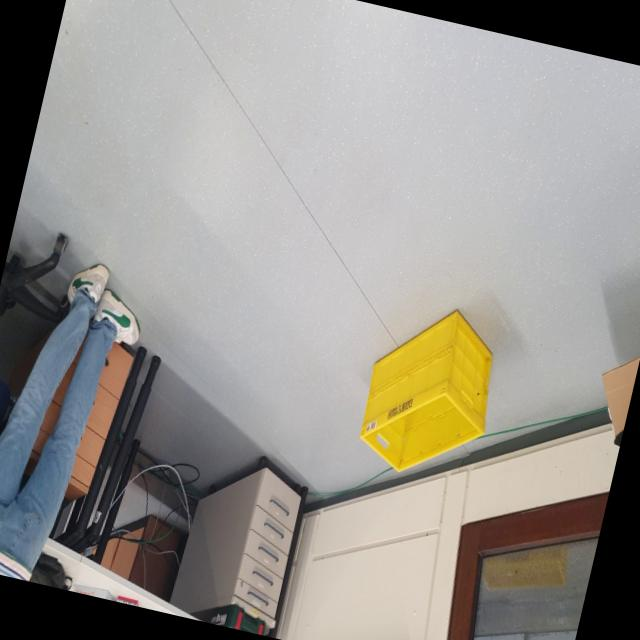box: (345, 282, 518, 494)
